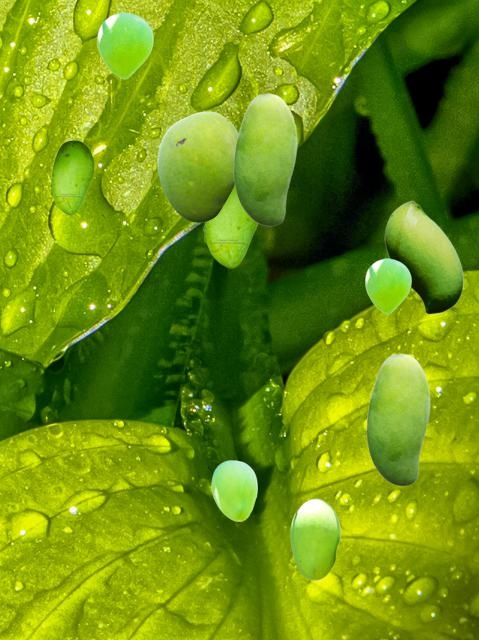green_mango: (384, 200, 462, 313), (157, 111, 237, 221), (366, 353, 429, 485), (233, 93, 296, 225), (203, 189, 258, 267), (290, 498, 339, 579), (97, 12, 152, 78), (50, 140, 93, 214), (211, 460, 256, 520), (365, 258, 410, 313)
